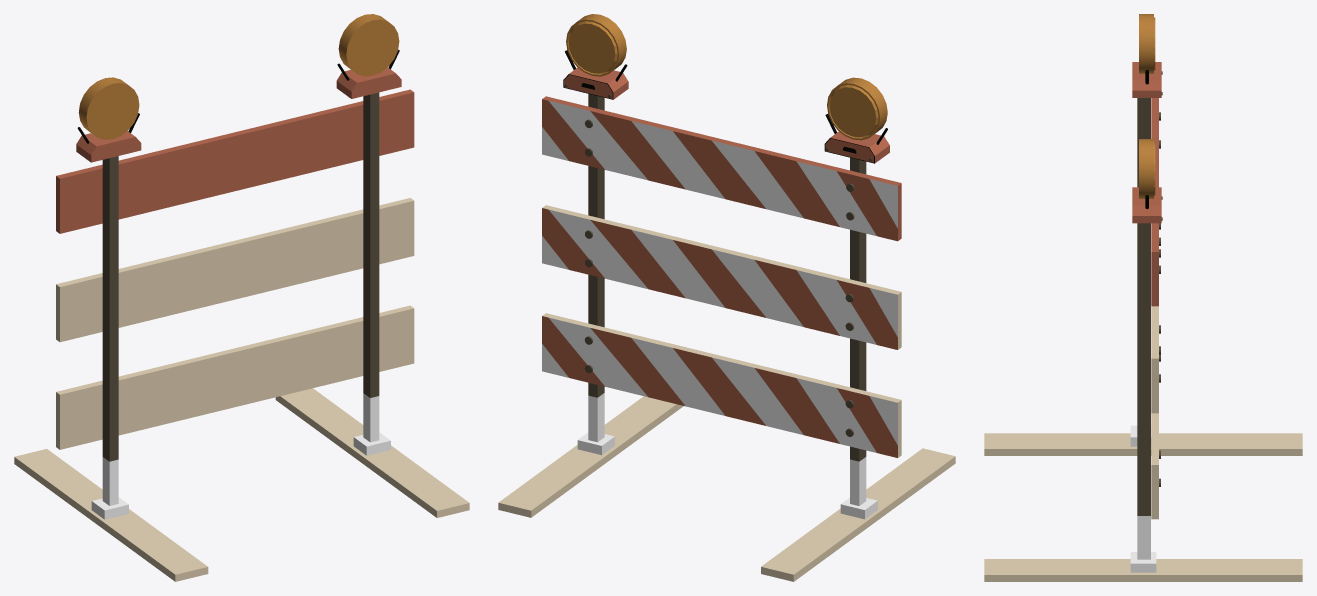
File: Wall 2.fbx
3 views of the same model, side by side, from view 1: azimuth 30°, elevation 25°; view 2: azimuth 150°, elevation 25°; view 3: azimuth 270°, elevation 25° (orthographic).
Parts seen in each view (by area): view 1: polySurface8, polySurface9, polySurface10, pCube2, polySurface2, pCylinder12, polySurface11, polySurface1; view 2: polySurface10, polySurface8, polySurface9, pCube2, pCylinder12, polySurface2, polySurface11, polySurface1, polySurface16; view 3: pCube2, polySurface2, pCylinder12, polySurface11, polySurface10, polySurface9, polySurface8, polySurface1.
Part boxes in pixels (<box>): polySurface8: <box>56,305,414,449</box>; polySurface9: <box>56,198,414,342</box>; polySurface10: <box>56,89,414,233</box>; pCube2: <box>14,388,469,581</box>; polySurface2: <box>102,92,379,505</box>; pCylinder12: <box>78,14,399,139</box>; polySurface11: <box>76,67,401,162</box>; polySurface1: <box>91,432,390,519</box>; polySurface10: <box>542,96,901,241</box>; polySurface8: <box>542,313,901,457</box>; polySurface9: <box>542,205,901,349</box>; pCube2: <box>498,396,955,581</box>; pCylinder12: <box>566,14,887,140</box>; polySurface2: <box>588,94,866,505</box>; polySurface11: <box>563,67,889,163</box>; polySurface1: <box>577,432,877,519</box>; polySurface16: <box>564,50,887,330</box>; pCube2: <box>984,433,1302,581</box>; polySurface2: <box>1137,98,1150,559</box>; pCylinder12: <box>1139,14,1155,198</box>; polySurface11: <box>1132,62,1161,223</box>; polySurface10: <box>1151,98,1158,306</box>; polySurface9: <box>1151,306,1158,413</box>; polySurface8: <box>1151,413,1158,519</box>; polySurface1: <box>1130,425,1156,572</box>.
Bounding box in the file's own units: 27.45 × 32.36 × 21.64.
